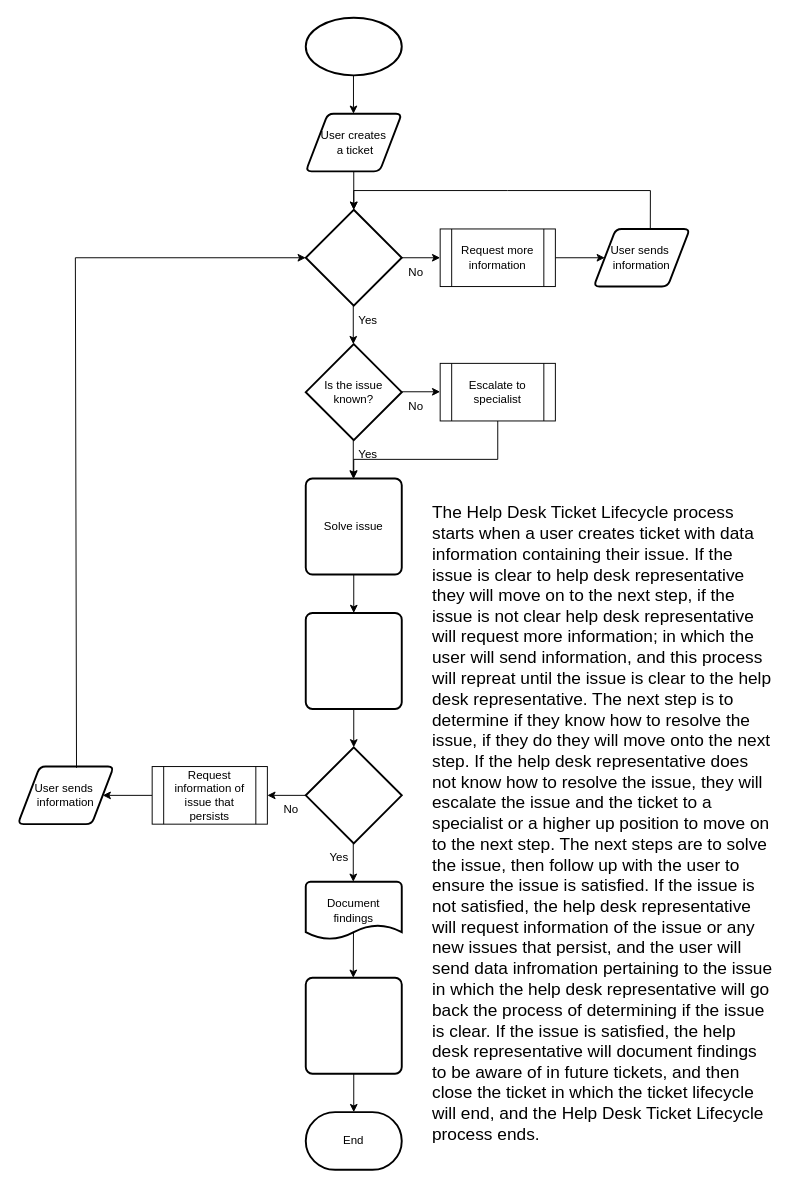
The diagram is 792 pixels wide and 1187 high, and some of its shapes have lost their labels. Each missing label, with the centre of its shape:
Close ticket: (353,1025)
Follow up with user: (353,660)
Is the issue clear?: (353,257)
Is the issue satisfied?: (353,795)
Start: (353,46)
